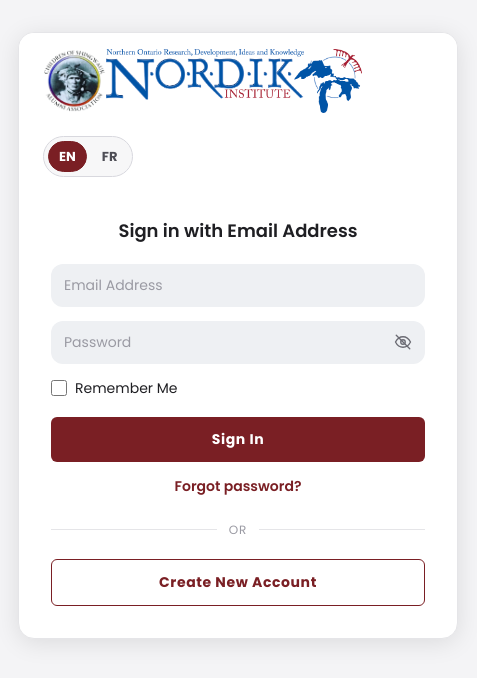
Test: LoginPage › shows field error when the email address is invalid
Type "invalid-email" into the field with placeholder "Email Address".
click(238, 285); type("invalid-email")  # box [52,264,424,306]
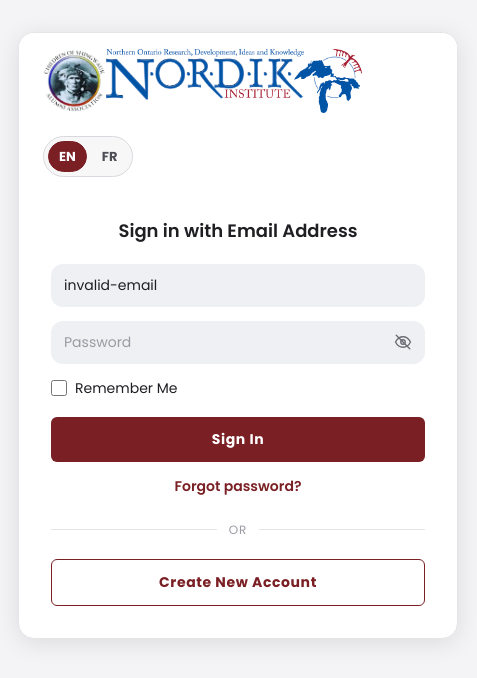
Type "Password123!" into the password field with placeholder "Password".
click(238, 342); type("Password123!")  # box [52,322,424,362]
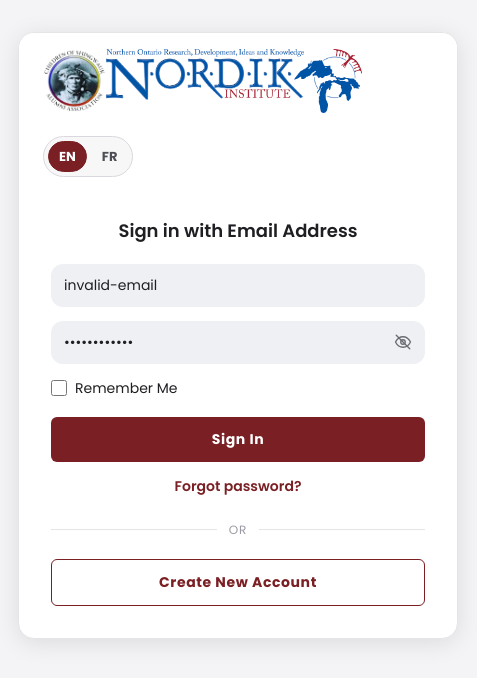
Click the button "Sign In".
click(238, 439)  # box [51,416,425,462]
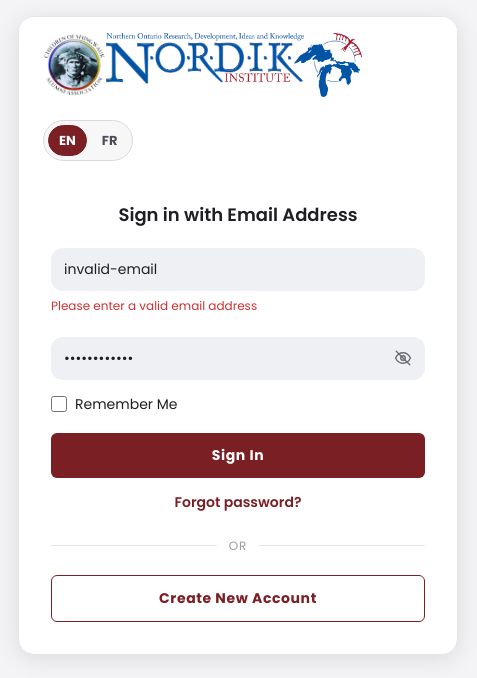
Check: the text "Please enter a valid email address" is shown, box [51,296,257,314]
